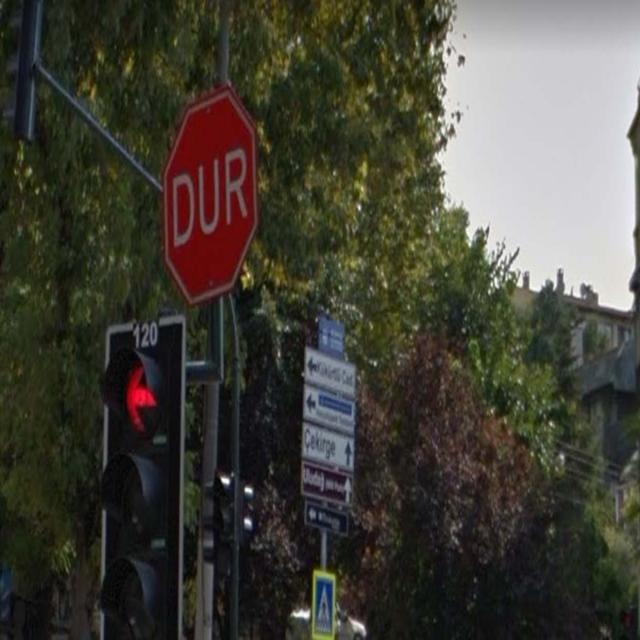dur: (161, 84, 256, 306)
kirmizi: (100, 312, 183, 640)
